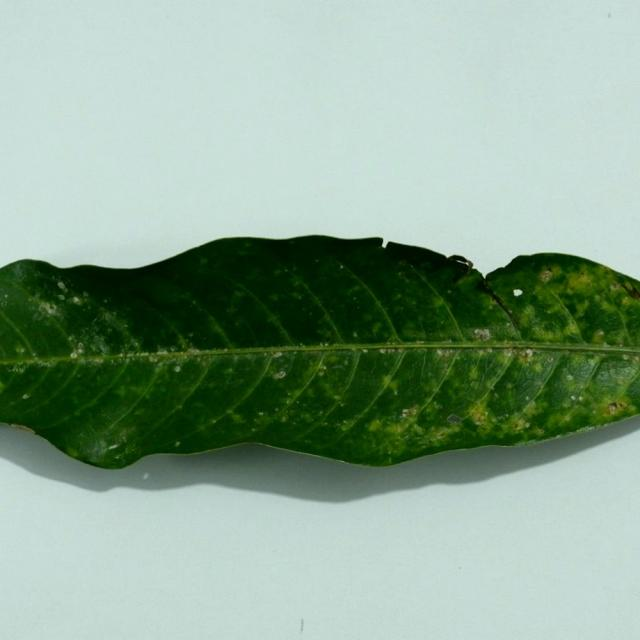Mango: (0, 236, 639, 468)
Powdery_Mildew: (564, 270, 595, 293), (620, 280, 640, 301), (469, 406, 486, 426), (506, 312, 523, 331), (366, 418, 386, 434), (9, 423, 36, 434), (376, 347, 412, 355), (39, 301, 58, 316), (606, 401, 626, 414), (473, 328, 492, 341), (65, 444, 80, 458), (446, 413, 463, 424), (402, 406, 417, 418), (433, 428, 449, 439), (539, 269, 552, 282), (513, 419, 527, 431), (519, 350, 534, 361), (437, 349, 453, 357), (502, 348, 514, 357), (414, 424, 424, 434), (274, 370, 285, 379), (156, 348, 169, 355), (57, 281, 67, 290), (188, 348, 200, 355), (595, 329, 604, 338), (16, 345, 25, 354), (199, 257, 209, 265), (610, 283, 619, 291), (108, 443, 118, 450), (536, 427, 544, 435), (504, 306, 512, 314), (433, 402, 441, 410), (149, 356, 158, 363), (72, 297, 81, 304), (379, 348, 389, 354), (489, 298, 496, 306), (77, 342, 84, 350), (70, 351, 78, 358), (173, 365, 181, 372), (273, 352, 282, 358), (319, 341, 328, 347), (220, 346, 229, 352), (443, 338, 453, 343), (617, 339, 624, 346), (566, 374, 573, 381), (563, 415, 570, 422), (547, 356, 554, 363), (58, 294, 65, 301), (22, 393, 30, 399), (605, 341, 614, 346), (386, 338, 395, 343), (623, 354, 629, 361), (280, 416, 287, 422), (333, 395, 340, 401), (342, 419, 349, 425), (415, 340, 425, 344), (320, 365, 326, 371), (352, 331, 358, 337), (579, 271, 585, 277), (486, 348, 493, 353), (187, 332, 194, 337), (343, 359, 348, 365), (446, 290, 452, 295), (393, 389, 398, 395), (362, 349, 368, 354), (570, 395, 576, 400), (299, 341, 305, 346), (387, 449, 392, 455), (636, 356, 640, 363), (175, 441, 180, 446), (579, 396, 584, 401), (258, 411, 264, 415), (340, 264, 344, 269), (275, 407, 279, 412)
